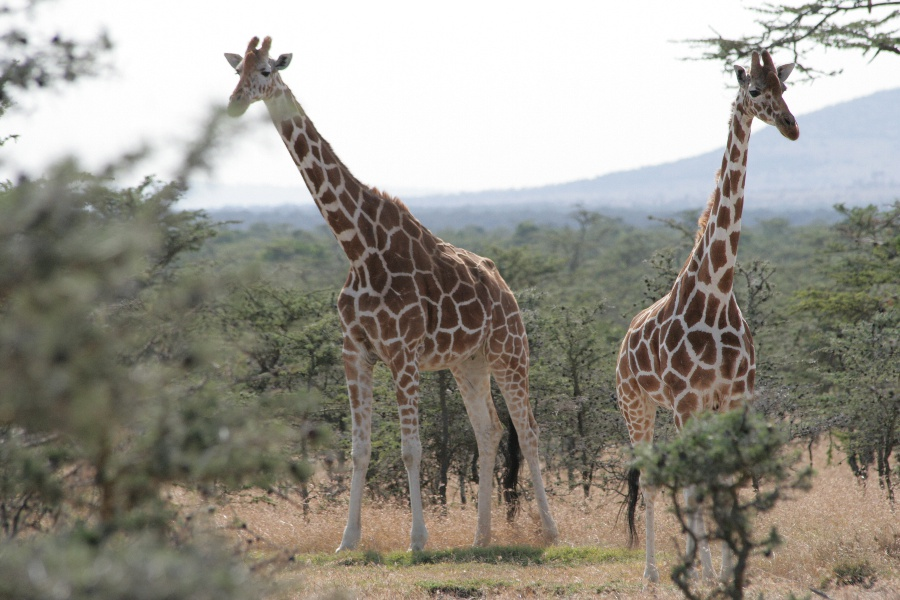giraffe: (210, 28, 566, 545), (602, 46, 806, 587)
